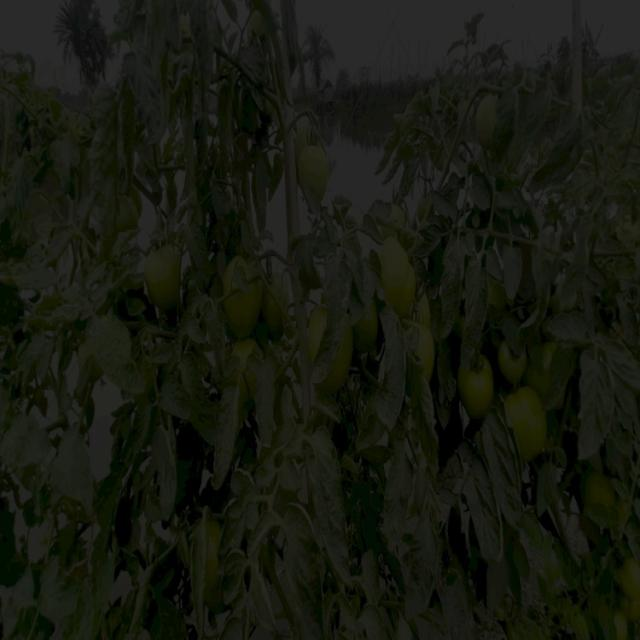tomato: (378, 239, 422, 321), (142, 243, 191, 309), (503, 387, 546, 458), (223, 256, 260, 335), (328, 312, 360, 392), (460, 354, 497, 418), (296, 141, 335, 201), (408, 316, 442, 378), (611, 548, 640, 602), (264, 270, 288, 332), (469, 88, 499, 137), (590, 467, 622, 509), (497, 341, 523, 380), (308, 308, 329, 356), (233, 337, 262, 369), (409, 283, 429, 323)
